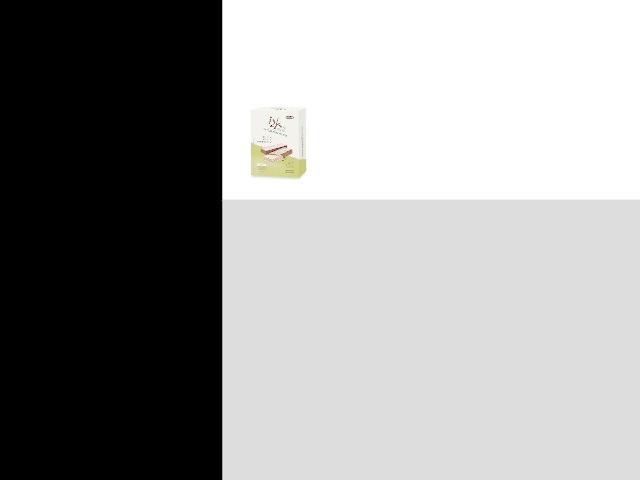chocolate: (249, 106, 310, 180)
